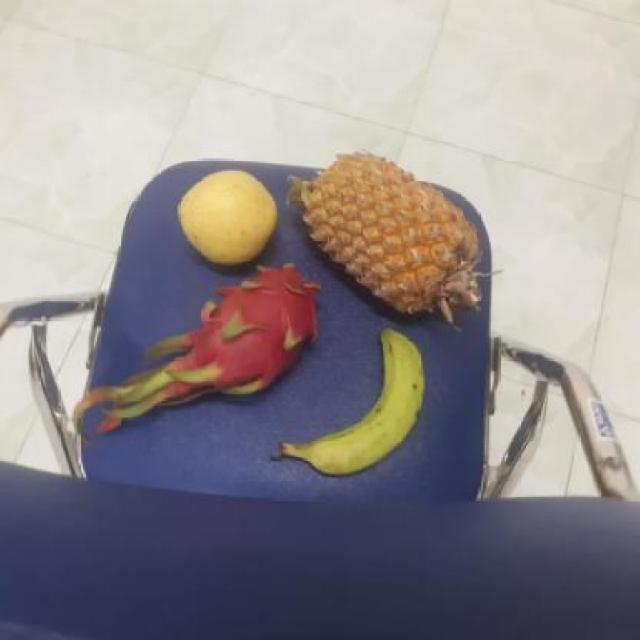banana: (268, 326, 424, 476)
dragon fruit: (186, 261, 316, 399)
pear: (171, 170, 280, 267)
pineapple: (284, 149, 484, 326)
